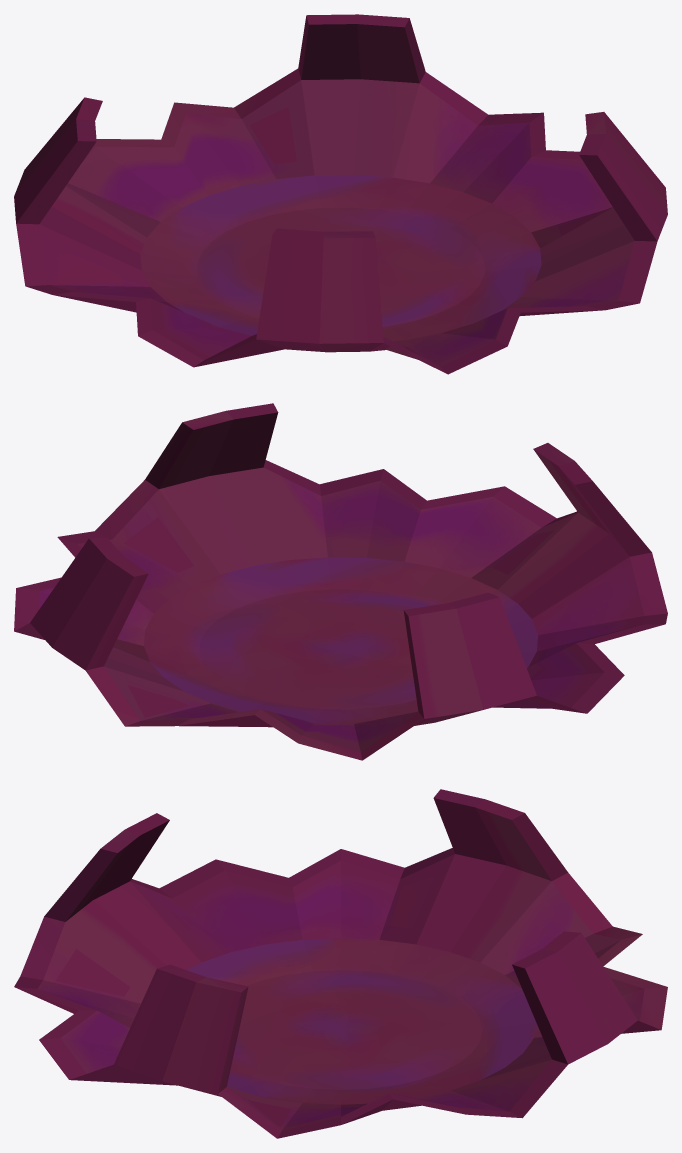
File: estadio rayos.fbx
The picture shows the model from 3 angles, top to bottom: view 1: azimuth 30°, elevation 25°; view 2: azimuth 150°, elevation 25°; view 3: azimuth 270°, elevation 25°; orthographic projection.
Parts seen in each view (by area): view 1: estadio; view 2: estadio; view 3: estadio.
Part boxes in pixels (x1,y1,x2,y2): estadio: (14, 14, 667, 374); estadio: (14, 403, 667, 760); estadio: (14, 789, 667, 1138).
Bounding box in the file's own units: 6253 × 1470 × 6253.
